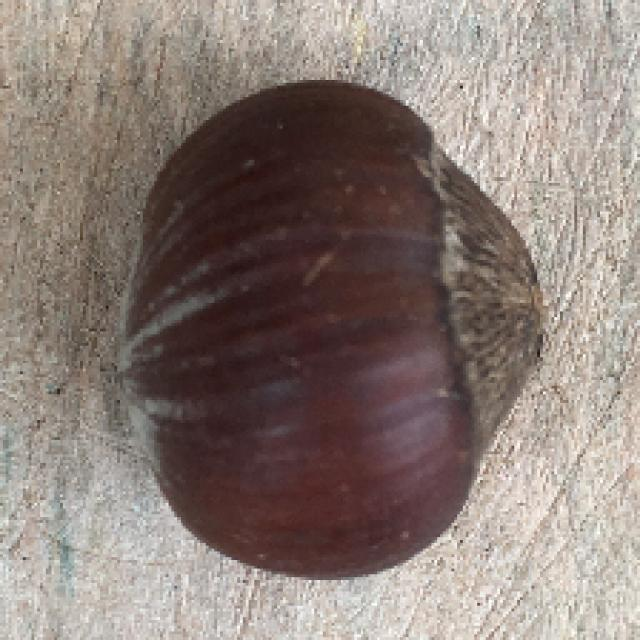damagedHazelnut: (117, 73, 552, 578)
